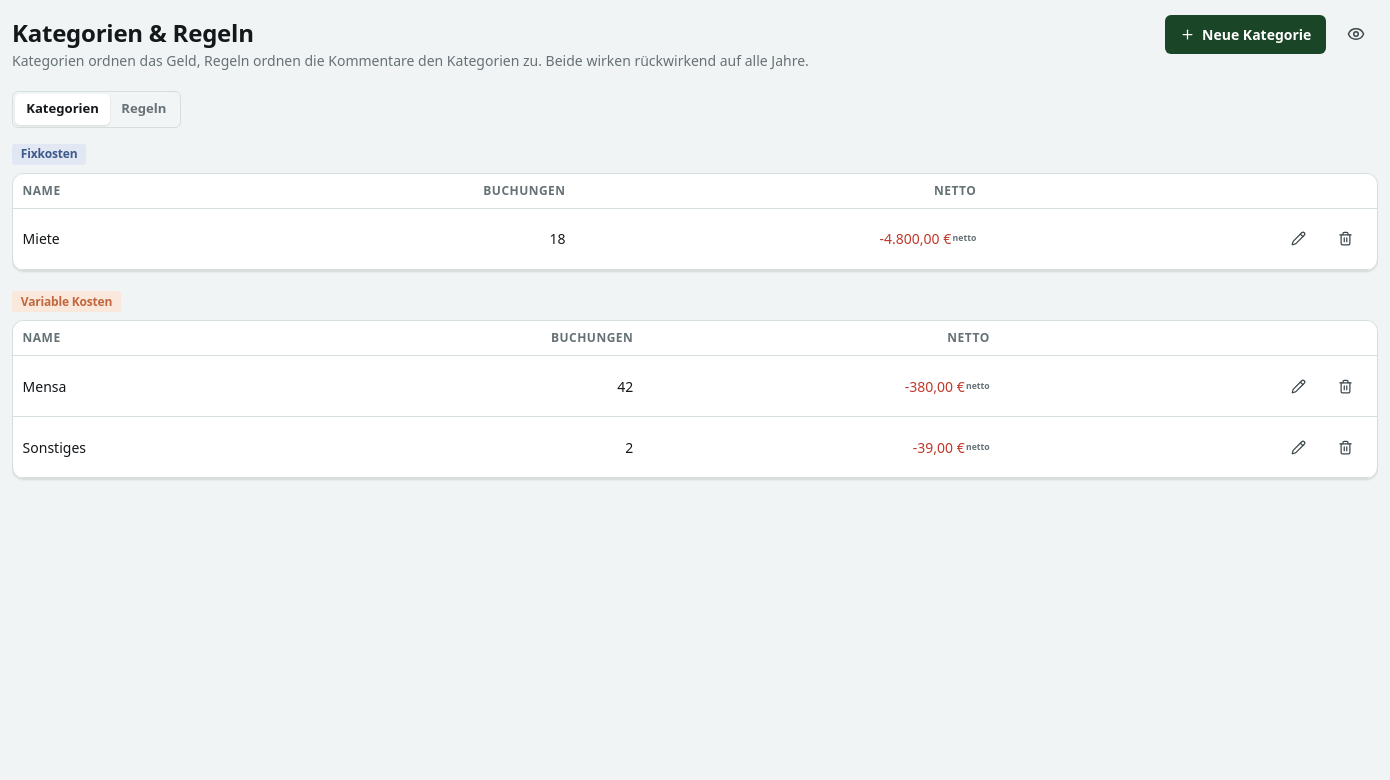
Test case: categories › offers the reassign flow when a category is still in use, not a raw error
Expected: the text "Mensa" is shown, top-left (23, 377), bottom-right (66, 396)
What coordinates should you click on to do the following:
click the button named "Löschen — Mensa"
I would click on:
 (1345, 386)
Its box is top-left (1323, 364), bottom-right (1367, 408).
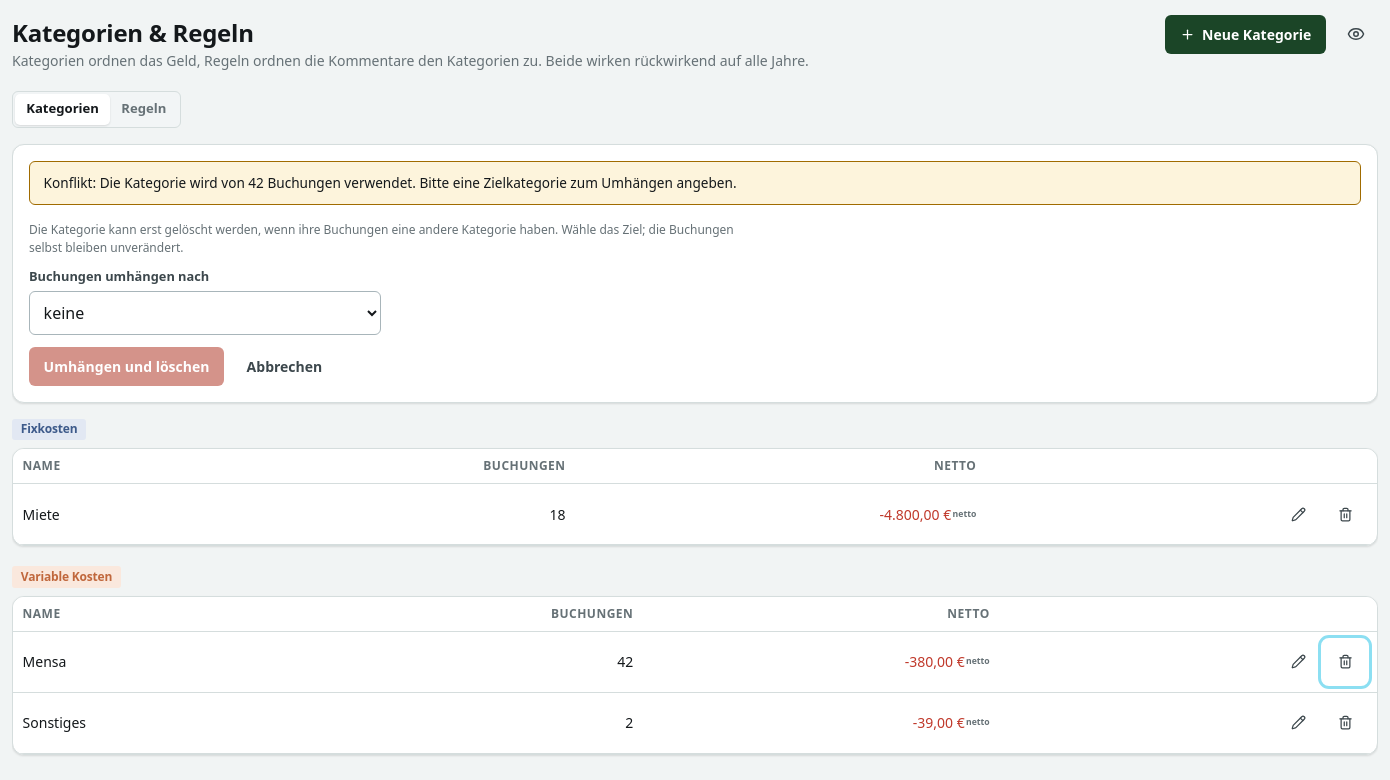
Expected: the text "42 Buchungen verwendet" is shown, top-left (44, 173), bottom-right (737, 192)
Expected: the dropdown labelled "Buchungen umhängen nach" is shown, top-left (29, 291), bottom-right (381, 335)
